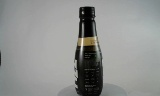appyfizz: (67, 5, 97, 95)
